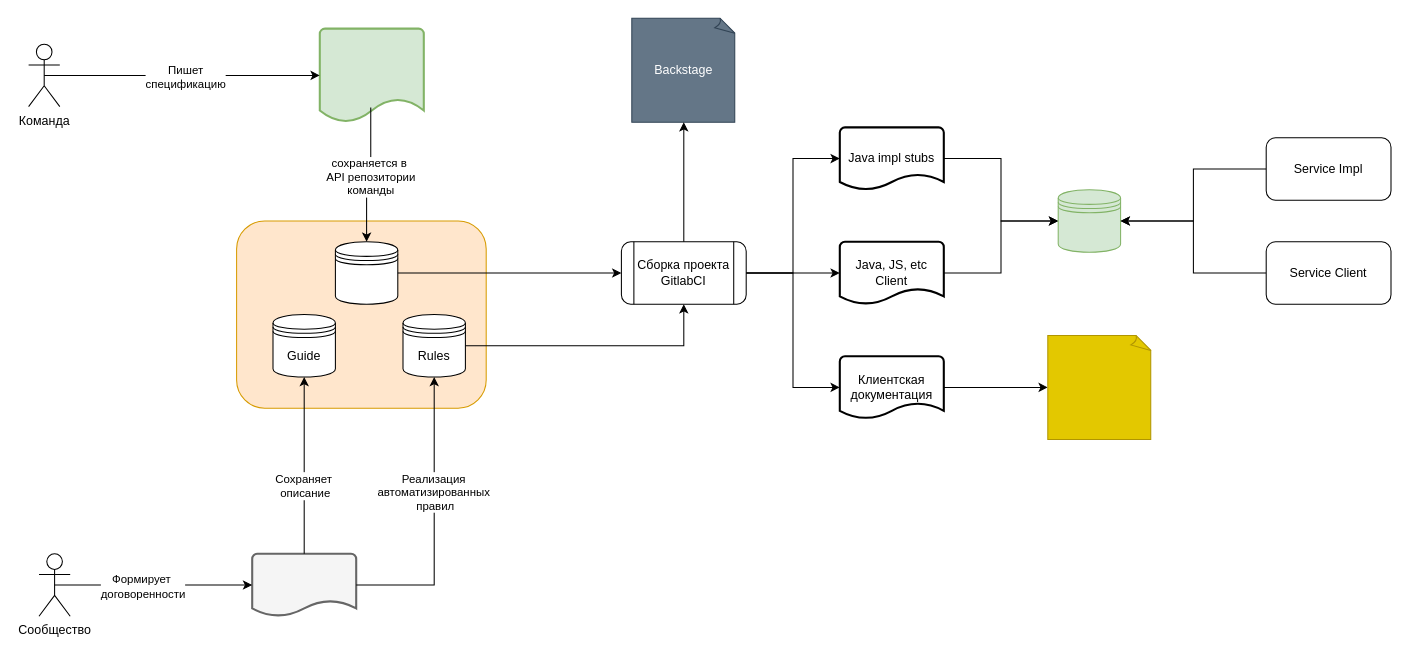
This 1409x656 diagram has some shape labels left out. Each missing label, with the box of its shape:
API: (334, 241, 398, 304)
Artifactory: (1057, 189, 1121, 252)
Gitlab: (236, 220, 486, 408)
openapi ayncapi etc...: (318, 27, 424, 123)
rest-api-guide: (251, 552, 357, 617)
Внешний сайт (pay.raif.ru/dev): (1047, 334, 1152, 439)
